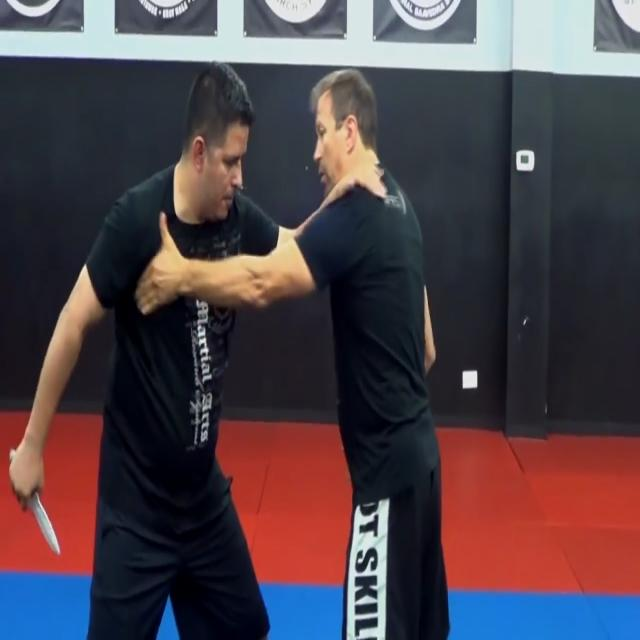knife: (28, 485, 64, 563)
